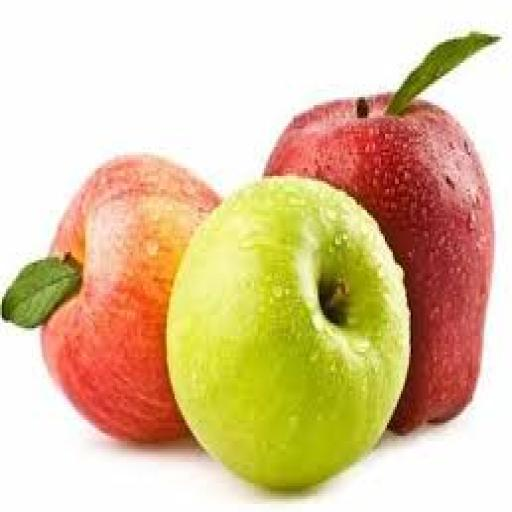apple: (266, 92, 494, 433), (167, 176, 408, 488), (40, 155, 218, 441)
